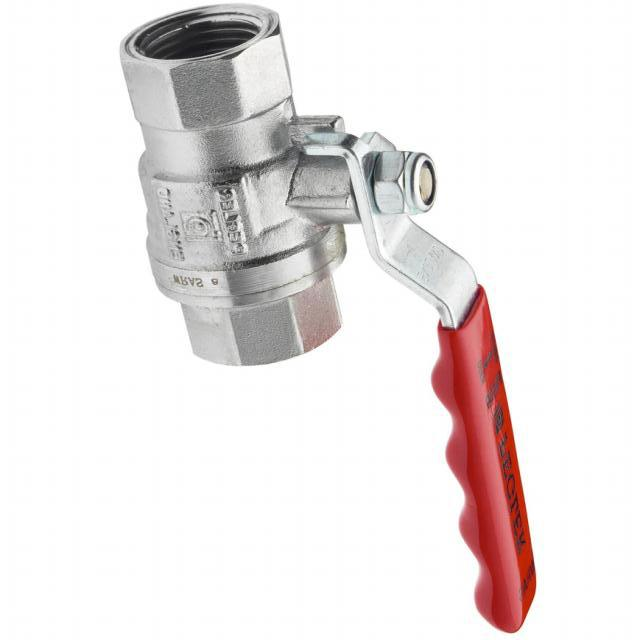opened valve: (115, 0, 541, 636)
